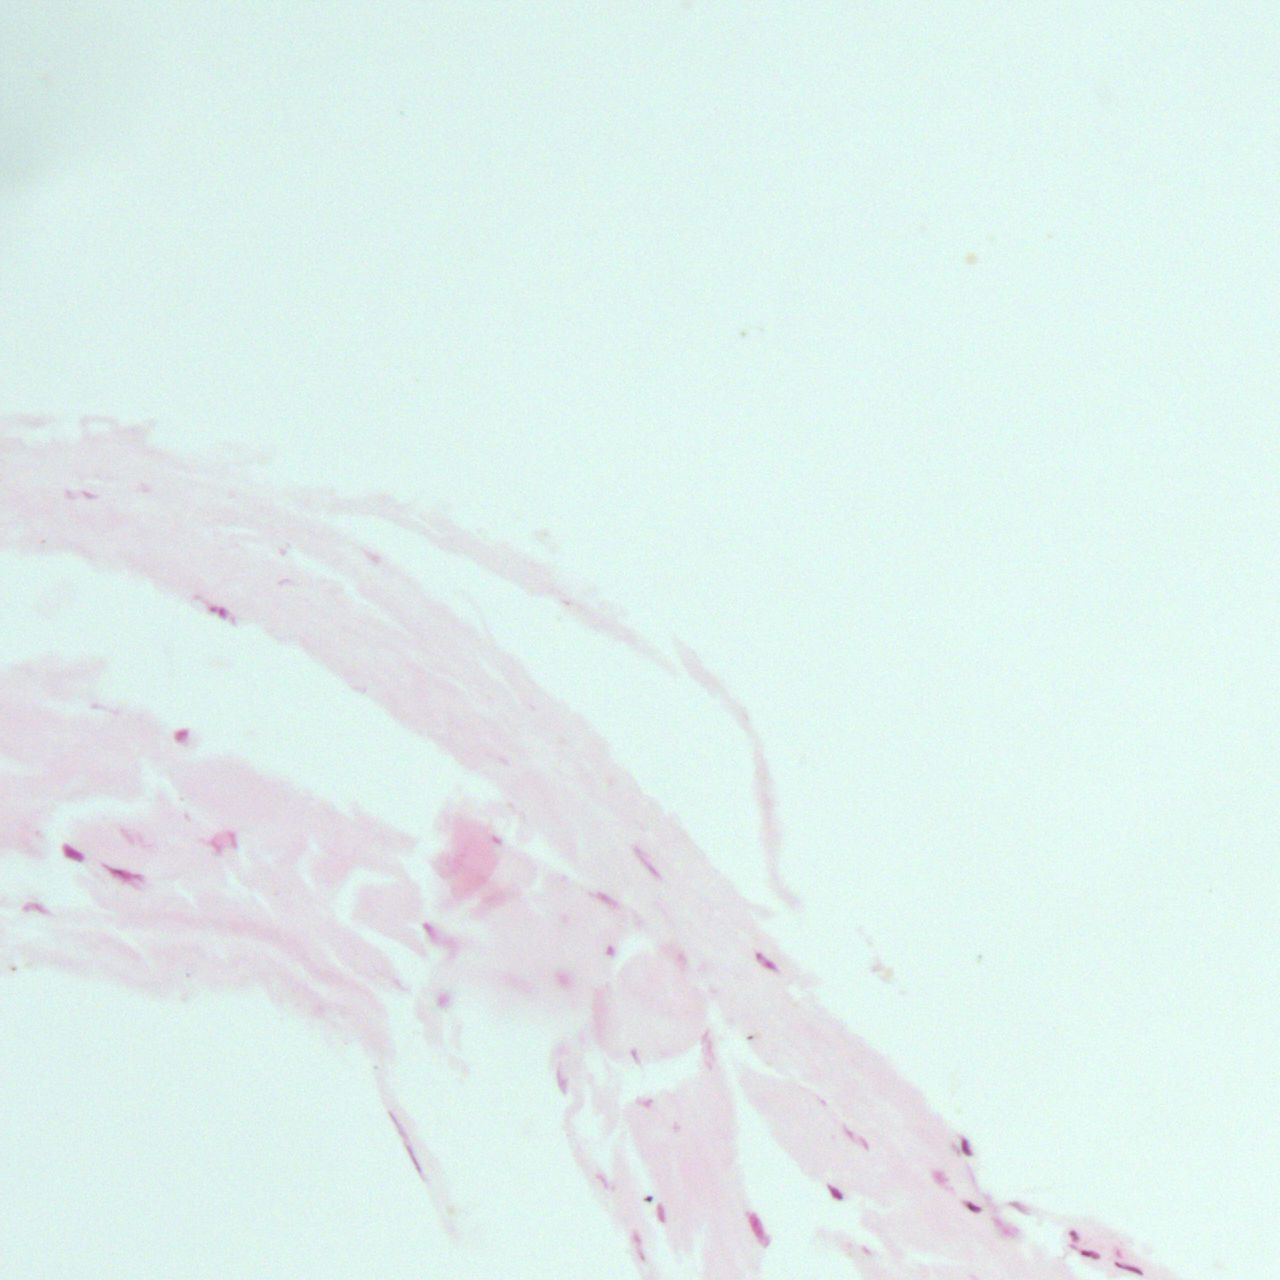dust: (644, 1193, 654, 1202), (745, 1034, 753, 1039)
nucleus-AC: (386, 1107, 427, 1179), (98, 858, 154, 893), (631, 845, 664, 882), (744, 1210, 773, 1248), (988, 1212, 1023, 1242), (416, 918, 447, 950), (928, 1166, 958, 1194), (752, 948, 780, 975), (551, 1063, 572, 1095), (593, 887, 622, 910), (206, 835, 229, 863), (1113, 1259, 1146, 1278), (958, 1194, 984, 1217), (630, 1229, 648, 1261), (1007, 1197, 1034, 1217), (701, 1030, 715, 1068), (955, 1135, 974, 1159), (824, 1182, 845, 1203), (20, 901, 49, 916), (1077, 1246, 1102, 1262), (223, 831, 241, 853), (63, 842, 84, 860), (596, 1172, 612, 1192), (654, 1202, 668, 1223), (556, 972, 572, 988), (629, 1048, 642, 1066), (175, 727, 189, 743), (842, 1124, 855, 1140), (436, 993, 450, 1007), (82, 490, 101, 500), (858, 1135, 869, 1150), (636, 1099, 653, 1108), (64, 489, 79, 498), (218, 606, 227, 621), (1069, 1229, 1078, 1241), (607, 943, 615, 956), (493, 836, 503, 845), (208, 604, 216, 613)
